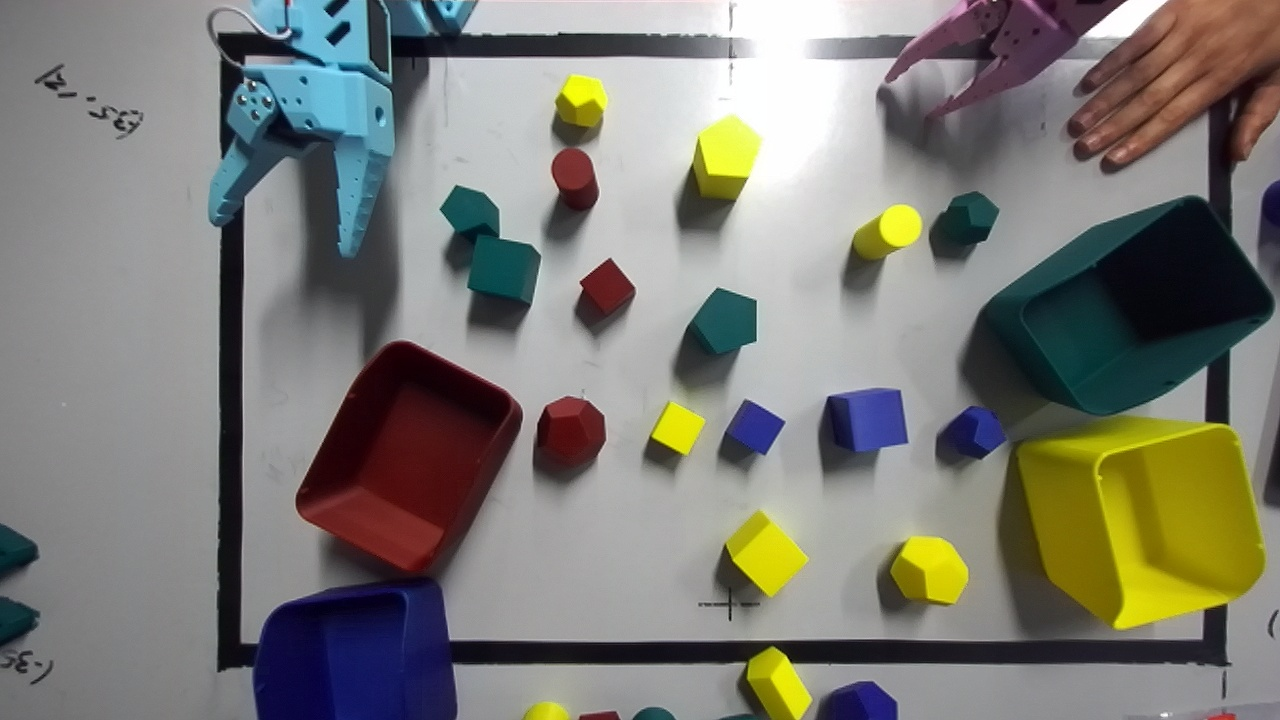bin: (986, 196, 1273, 414), (1016, 416, 1265, 628), (296, 342, 519, 571), (252, 578, 456, 719)
cube: (725, 511, 807, 596), (826, 388, 907, 451), (468, 235, 540, 304), (725, 399, 785, 454), (580, 258, 635, 316), (649, 402, 704, 454)
cylinder: (852, 204, 921, 259), (551, 148, 598, 209)
dodecahedron: (890, 536, 968, 604), (536, 396, 605, 467), (943, 406, 1006, 458), (939, 191, 998, 243), (555, 74, 606, 127)
hexagonal: (692, 115, 760, 199), (687, 288, 756, 354), (440, 185, 499, 242)
